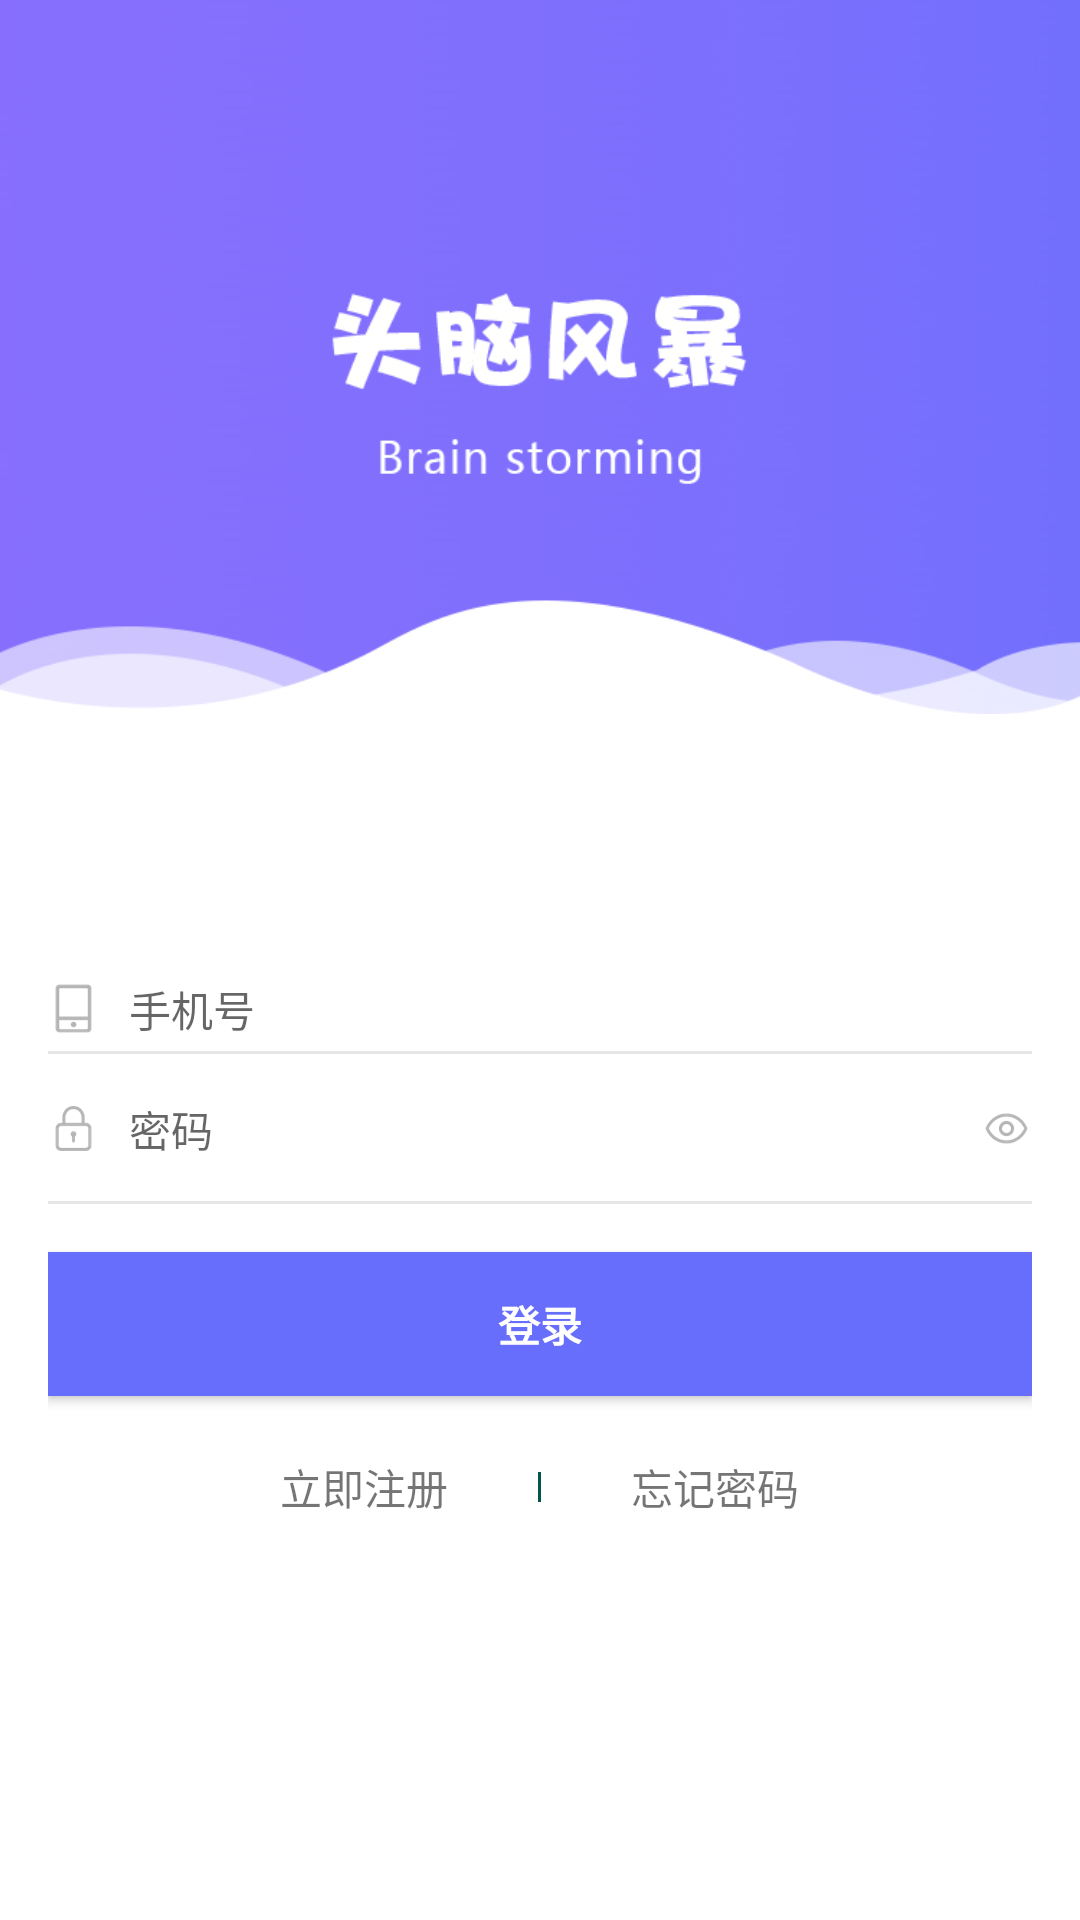

Icon bounding boxes for this 1080×1920 phone screenshot, format [left=x1, top=y1, right=x2, bottom=y2]:
show: [left=986, top=1113, right=1027, bottom=1144]
